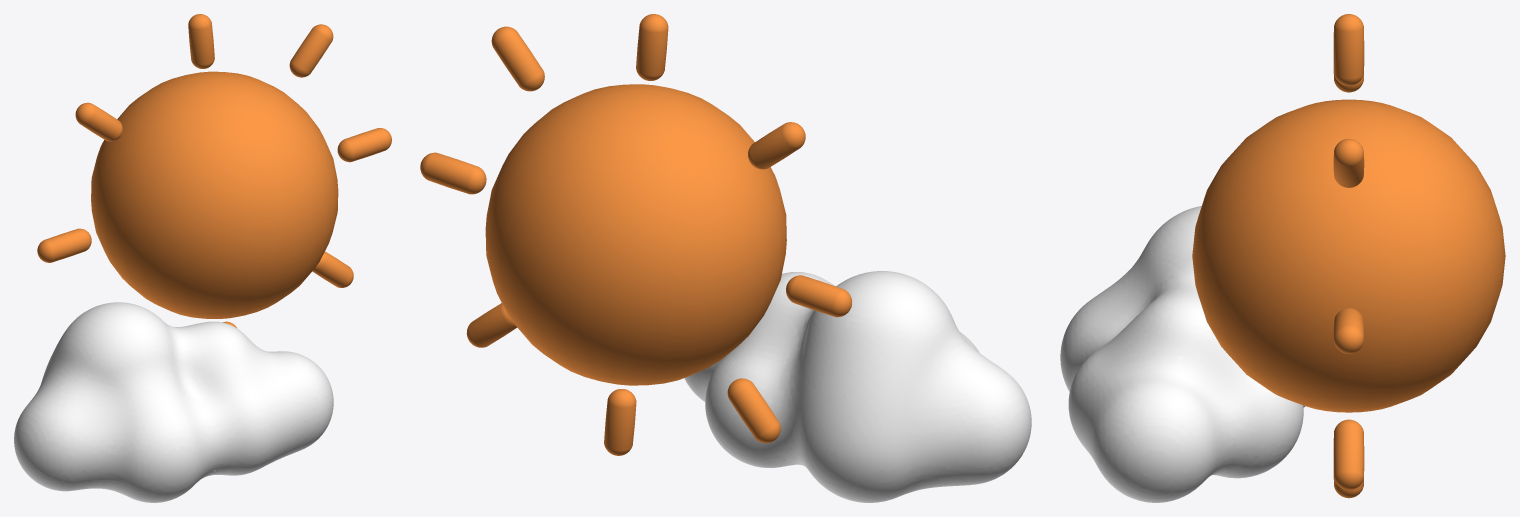
File: fewClouds.glb
3 views of the same model, side by side, from view 1: azimuth 30°, elevation 25°; view 2: azimuth 150°, elevation 25°; view 3: azimuth 270°, elevation 25° (orthographic). The views are drawn at different scales.
Parts seen in each view (by area): view 1: Mball.002; view 2: Mball.002; view 3: Mball.002.
Boxes of the visible parts, x1=… form: Mball.002: x1=14, y1=14, x2=391, y2=502; Mball.002: x1=420, y1=14, x2=1031, y2=502; Mball.002: x1=1060, y1=14, x2=1505, y2=502.
Size of the model in its own units: 5.36 by 4.6 by 3.8.
